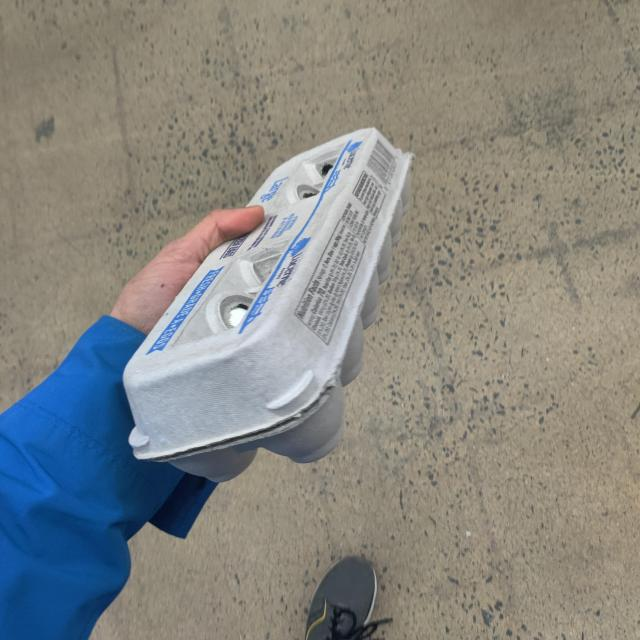Eggs: (140, 120, 438, 478)
